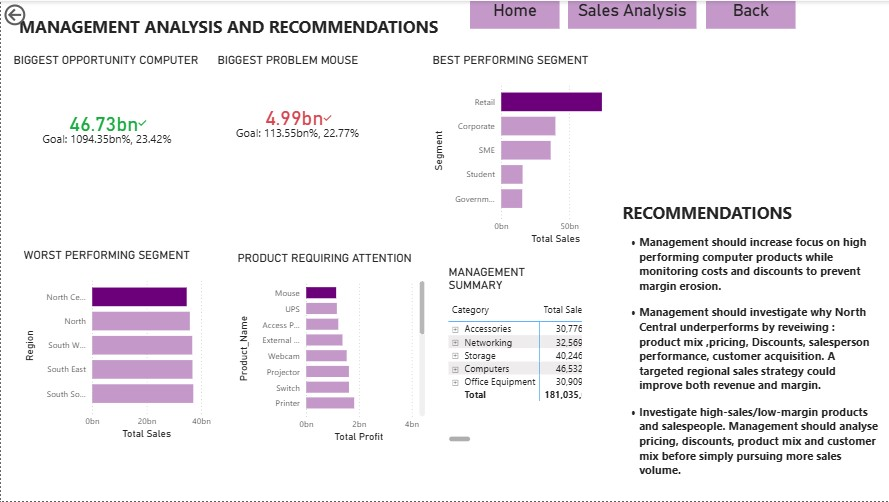

What the dashboard file says about the page in this screenshot:
{"tool":"powerbi","page":{"name":"Management Analysis","canvas":[1280,720],"ordinal":2},"visuals":[{"type":"kpi","title":"BIGGEST OPPORTUNITY COMPUTER","fields":{"TrendLine":["Dim_Products.Category"],"Indicator":["Dim_Customers.Total Sales"],"Goal":["Dim_Customers.Total Profit","Dim_Customers.Profit Margin %"]},"box":[13.4,75.6,282.2,193.2],"z":0},{"type":"textbox","box":[0,15.1,655.1,60.5],"z":1000},{"type":"clusteredBarChart","title":"BEST PERFORMING SEGMENT","fields":{"Category":["Dim_Customers.Segment"],"Y":["Dim_Customers.Total Sales"]},"box":[616.5,75.6,280,280],"z":2000},{"type":"kpi","title":"BIGGEST PROBLEM MOUSE","fields":{"TrendLine":["Dim_Products.Product_Name"],"Indicator":["Dim_Customers.Total Sales"],"Goal":["Dim_Customers.Total Profit","Dim_Customers.Profit Margin %"]},"box":[307.4,75.6,243.6,178.1],"z":3000},{"type":"actionButton","box":[0,0,100,40],"z":4000},{"type":"clusteredBarChart","title":"PRODUCT REQUIRING ATTENTION","fields":{"Y":["Dim_Customers.Total Profit"],"Category":["Dim_Products.Product_Name"]},"box":[336,359.5,280,280],"z":5000},{"type":"clusteredBarChart","title":"WORST PERFORMING SEGMENT","fields":{"Y":["Dim_Customers.Total Sales"],"Category":["Dim_Customers.Region"]},"box":[26.9,356.1,280,280],"z":6000},{"type":"pivotTable","title":"MANAGEMENT SUMMARY","fields":{"Rows":["Dim_Products.Category","Dim_Products.Product_Name"],"Values":["Dim_Customers.Total Sales","Dim_Customers.Total Profit","Dim_Customers.Profit Margin %"]},"box":[640,379.6,201.6,260.4],"z":7000},{"type":"textbox","box":[890.3,282.2,378,426.7],"z":8000},{"type":"actionButton","title":"Home","box":[675.3,0,129.3,40.3],"z":9000},{"type":"actionButton","title":"Sales Analysis","box":[816.4,0,184.8,40.3],"z":10000},{"type":"actionButton","title":"Back","box":[1014.6,0,129.3,40.3],"z":11000}]}

Visuals, with their boxes in screenshot pixels (x1, y1, x2, y2), scaled from the page's 1280x720 canvas onto the 889x502 screenshot:
"BIGGEST OPPORTUNITY COMPUTER" kpi: 9 53 205 187
textbox: 0 11 455 53
"BEST PERFORMING SEGMENT" clusteredBarChart: 428 53 623 248
"BIGGEST PROBLEM MOUSE" kpi: 213 53 383 177
actionButton: 0 0 69 28
"PRODUCT REQUIRING ATTENTION" clusteredBarChart: 233 251 428 446
"WORST PERFORMING SEGMENT" clusteredBarChart: 19 248 213 444
"MANAGEMENT SUMMARY" pivotTable: 444 265 585 446
textbox: 618 197 881 494
"Home" actionButton: 469 0 559 28
"Sales Analysis" actionButton: 567 0 695 28
"Back" actionButton: 705 0 794 28
